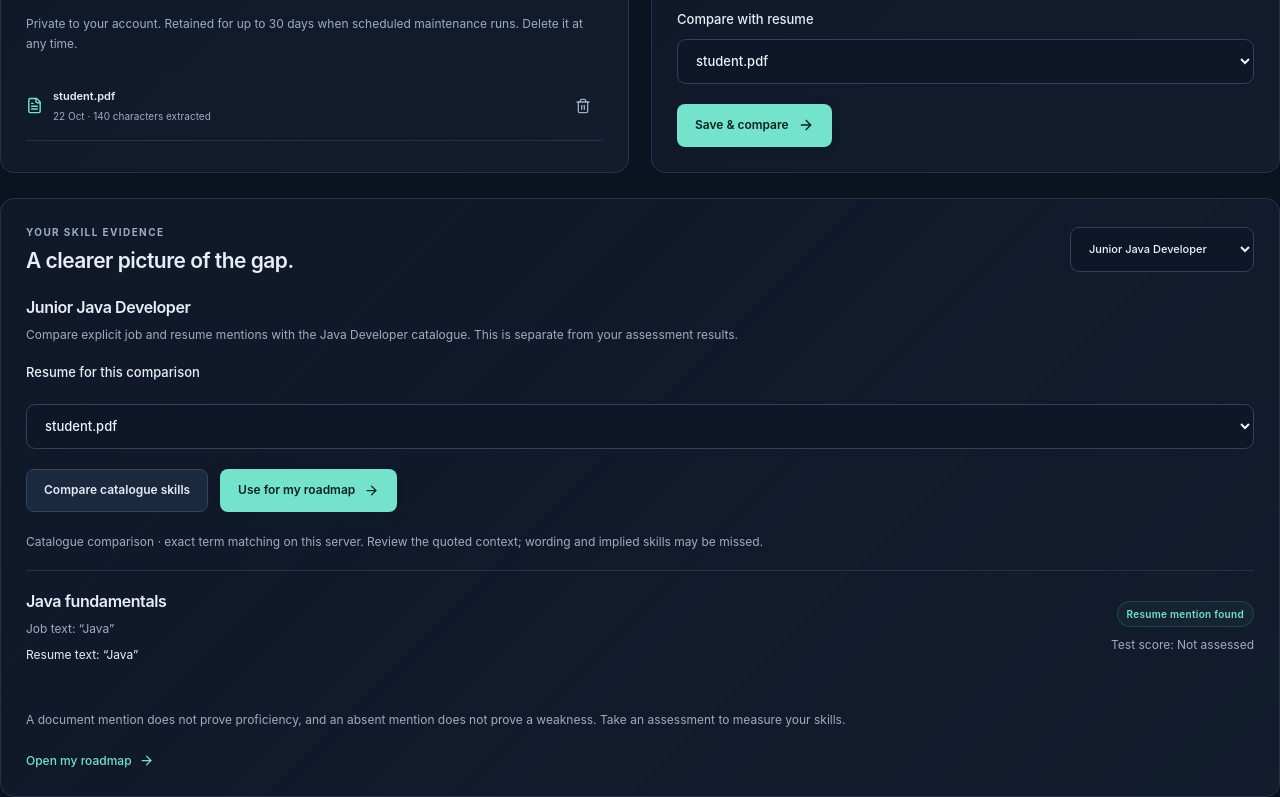
Test case: keeps catalogue comparison available when the AI status request fails
(page scrolled)
Click the button "Compare catalogue skills".
click(117, 490)  # box 26,469 -> 208,512
(page scrolled)
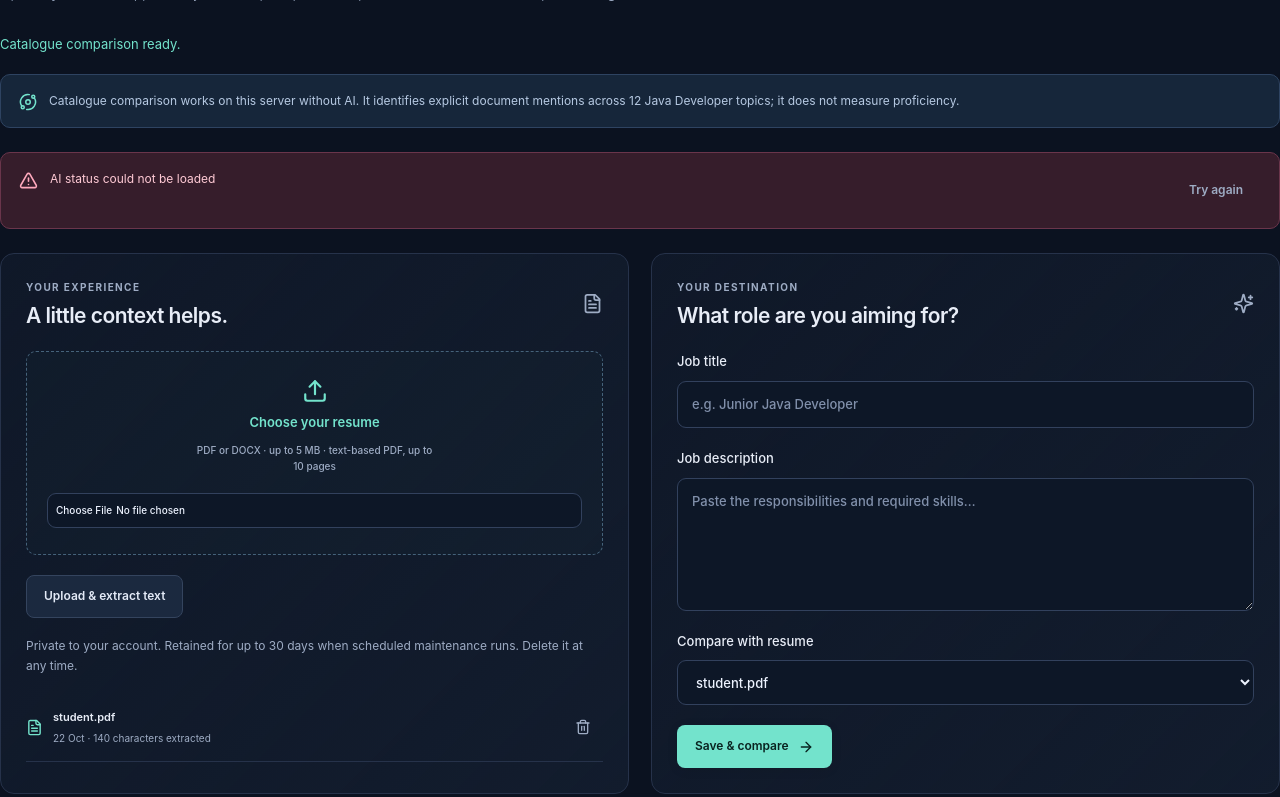
Expected: the text "Catalogue comparison ready." is shown, 0,36 -> 181,52
